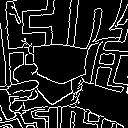cube: (32, 38, 93, 87)
